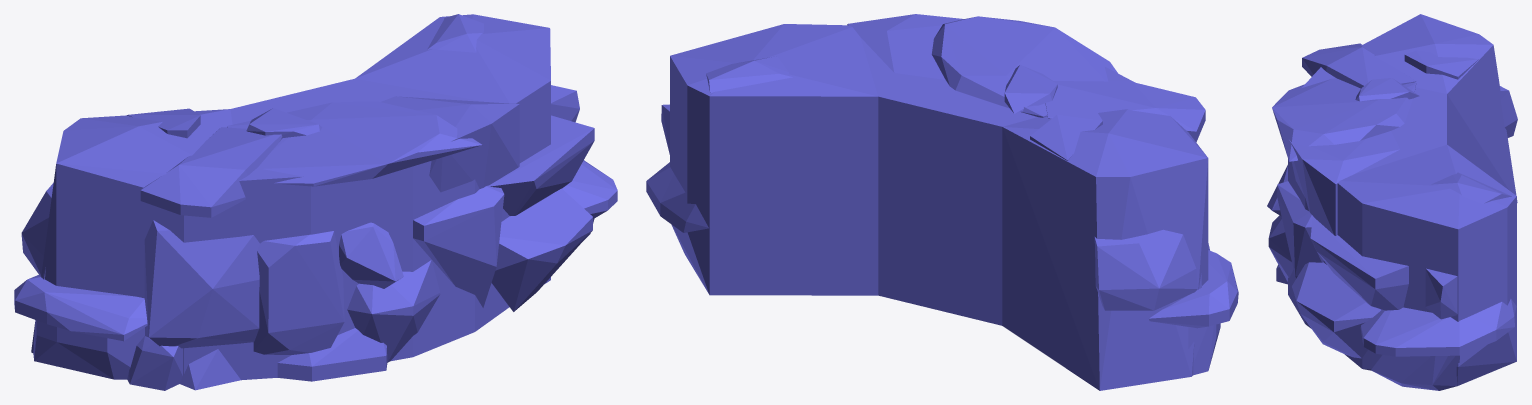
The model's file is Ledge_02_Out_Collider_01.FBX.
3 views of the same model, side by side, from view 1: azimuth 30°, elevation 25°; view 2: azimuth 150°, elevation 25°; view 3: azimuth 270°, elevation 25° (orthographic). The views are drawn at different scales.
Parts seen in each view (by area): view 1: COLLIDER3, COLLIDER1, COLLIDER25, COLLIDER7, COLLIDER6, COLLIDER17, COLLIDER12, COLLIDER5, COLLIDER13, COLLIDER16, COLLIDER4, COLLIDER10 (+12 smaller); view 2: COLLIDER25, COLLIDER3, COLLIDER1, COLLIDER6, COLLIDER2, COLLIDER5, COLLIDER16, COLLIDER4, COLLIDER11, COLLIDER21, COLLIDER20, COLLIDER24 (+1 smaller); view 3: COLLIDER25, COLLIDER3, COLLIDER6, COLLIDER11, COLLIDER12, COLLIDER16, COLLIDER15, COLLIDER1, COLLIDER5, COLLIDER14, COLLIDER13, COLLIDER18 (+6 smaller).
Boxes of the visible parts, x1,y1,x2,y2 form: COLLIDER3: (31, 109, 239, 377); COLLIDER1: (230, 78, 509, 380); COLLIDER25: (355, 14, 550, 284); COLLIDER7: (144, 220, 259, 348); COLLIDER6: (227, 101, 481, 186); COLLIDER17: (253, 231, 344, 354); COLLIDER12: (491, 188, 592, 311); COLLIDER5: (140, 127, 282, 217); COLLIDER13: (413, 185, 504, 307); COLLIDER16: (381, 96, 519, 192); COLLIDER4: (14, 275, 147, 341); COLLIDER10: (347, 260, 440, 362); COLLIDER25: (670, 24, 878, 295); COLLIDER3: (1002, 109, 1208, 390); COLLIDER1: (860, 37, 1134, 325); COLLIDER6: (931, 16, 1117, 117); COLLIDER2: (1094, 229, 1201, 310); COLLIDER5: (1045, 81, 1205, 142); COLLIDER16: (847, 14, 963, 79); COLLIDER4: (1149, 250, 1238, 328); COLLIDER11: (646, 162, 708, 232); COLLIDER21: (1030, 111, 1102, 160); COLLIDER20: (706, 56, 792, 93); COLLIDER24: (1004, 65, 1057, 113); COLLIDER25: (1337, 144, 1516, 386); COLLIDER3: (1361, 14, 1517, 202); COLLIDER6: (1272, 78, 1416, 161); COLLIDER11: (1360, 299, 1516, 356); COLLIDER12: (1292, 262, 1380, 358); COLLIDER16: (1288, 131, 1399, 235); COLLIDER15: (1310, 217, 1408, 310); COLLIDER1: (1288, 67, 1446, 328); COLLIDER5: (1302, 43, 1416, 88); COLLIDER14: (1371, 351, 1459, 390); COLLIDER13: (1277, 181, 1323, 278); COLLIDER18: (1425, 268, 1457, 319).
Size of the model in its own units: 354 by 127 by 161.
